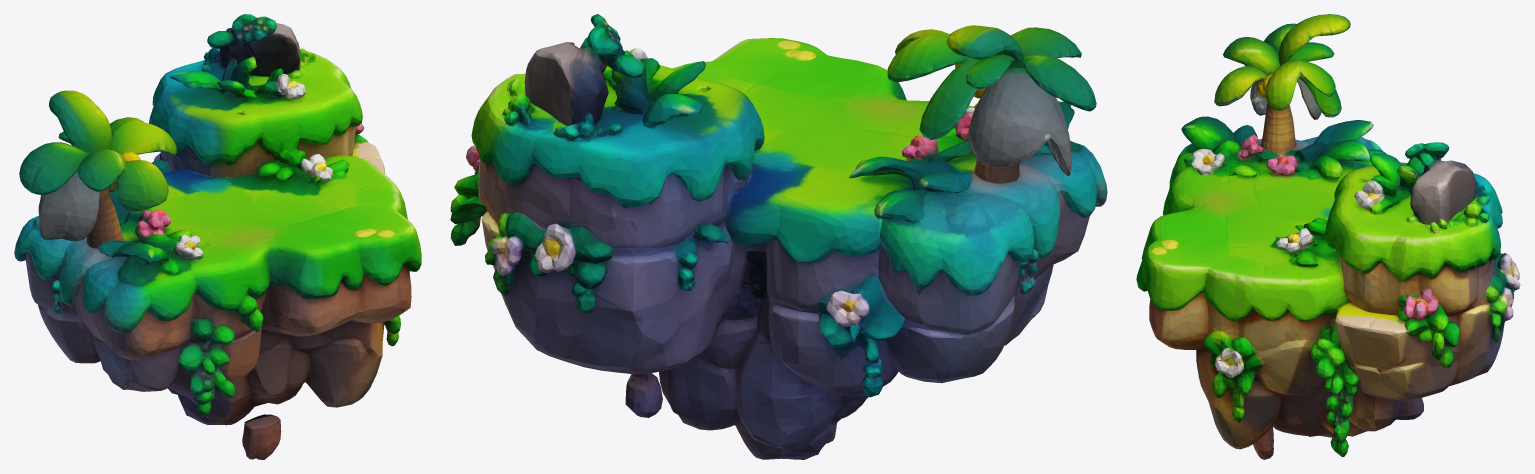
The model's file is jungle_ukijima.glb.
3 renders of one model, left to right at view 1: azimuth 30°, elevation 25°; view 2: azimuth 150°, elevation 25°; view 3: azimuth 270°, elevation 25°, orthographic. The views are drawn at different scales.
Visible parts, largest first — view 1: world; view 2: world; view 3: world.
Boxes of the visible parts, x1,y1,x2,y2 form: world: [14, 14, 421, 459]; world: [450, 14, 1107, 459]; world: [1136, 14, 1520, 459].
Bounding box in the file's own units: 0.9562 × 0.8457 × 0.8007.
Materials: 1 (1 with a texture image).
